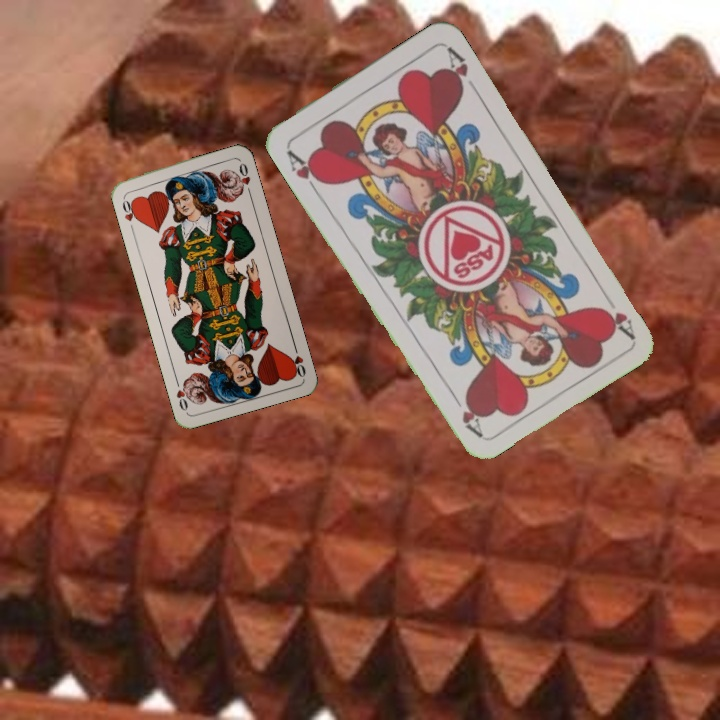HA: (594, 287, 638, 341), (282, 145, 328, 196)
HO: (118, 192, 141, 233), (286, 340, 308, 380)
